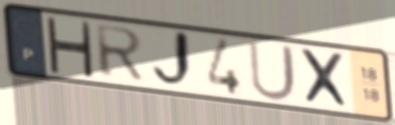4: (204, 36, 244, 98)
H: (43, 14, 96, 80)
J: (149, 27, 198, 91)
R: (92, 22, 148, 83)
U: (246, 39, 300, 104)
X: (296, 46, 354, 112)
